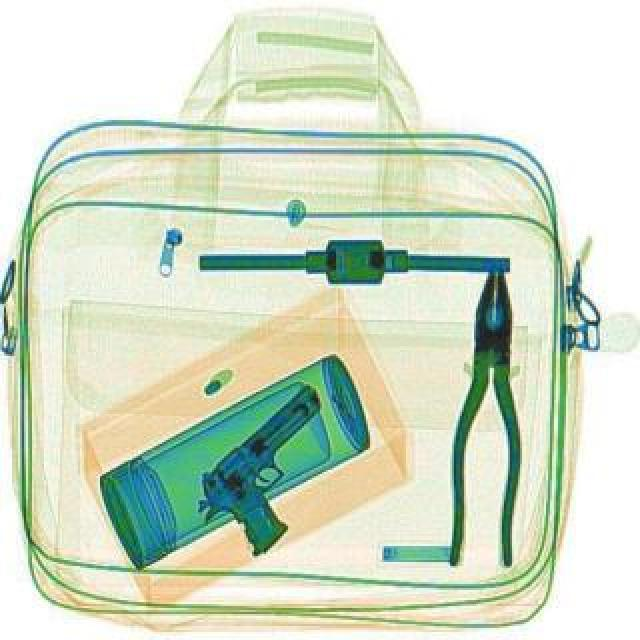gun: (176, 376, 378, 560)
wrench: (446, 260, 532, 568)
